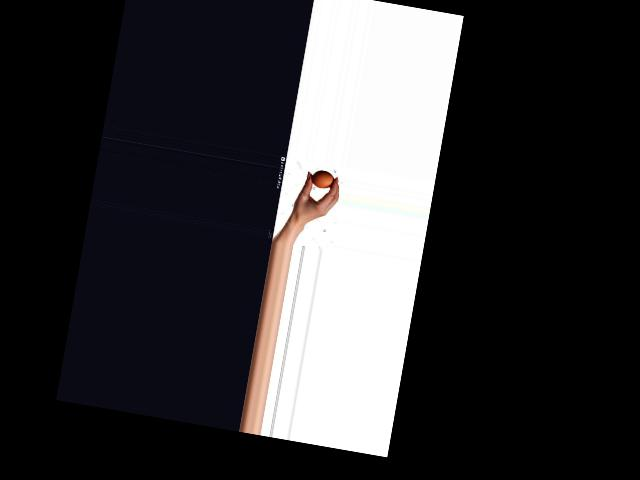egg: (310, 169, 334, 190)
